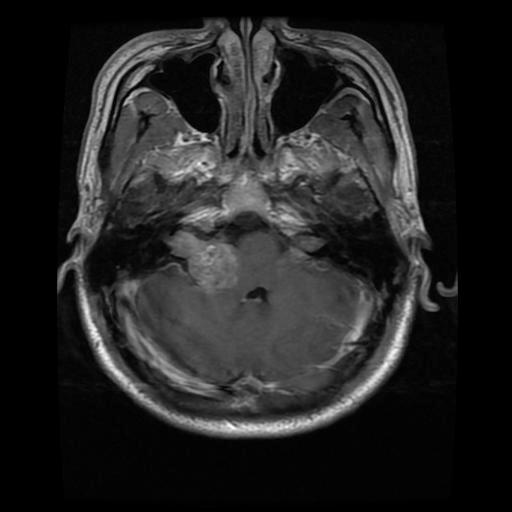Tumour-Meningioma: (166, 232, 267, 328)
